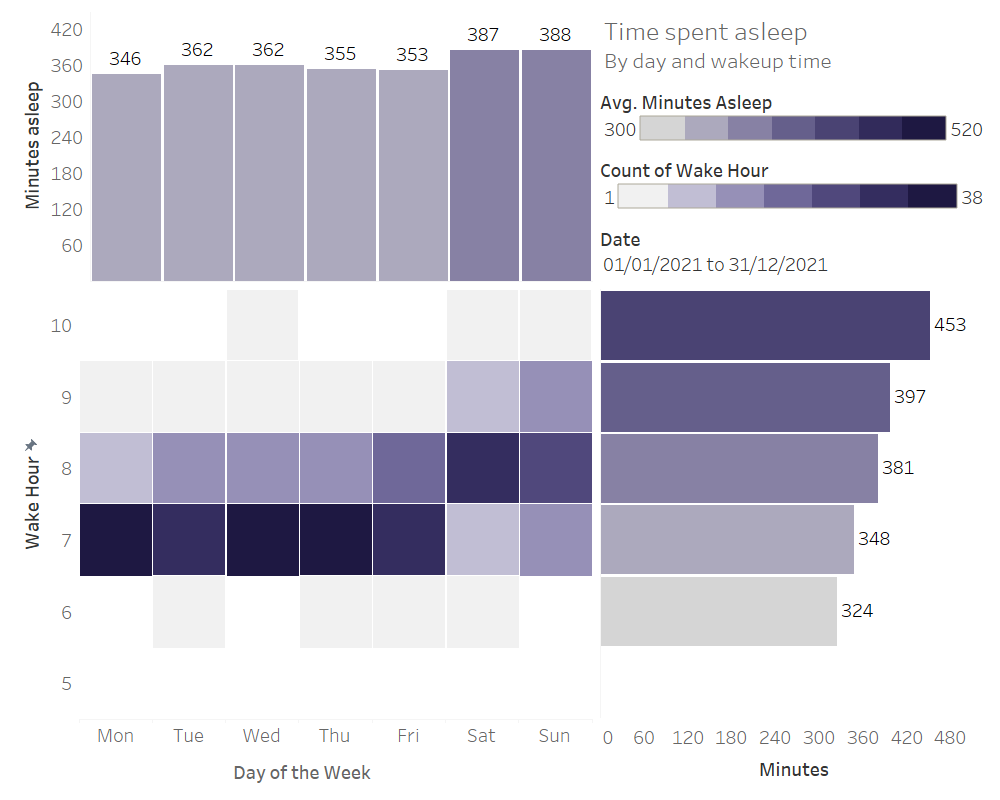

Layout of this report page (visuals, bound fields, positions):
{"tool":"tableau","page":{"name":"Waketime Dashboard","canvas":[1000,800],"ordinal":0},"visuals":[{"type":"worksheet","title":"Asleep by Day","mark":"Bar","rows":["minutesAsleep"],"cols":["dayOfWeek"],"box":[8,8,588,277]},{"type":"text","box":[596,8,396.1,73]},{"type":"legend","title":"Asleep by wake hour","param":"[federated.1r5qa1g0v1m78x16bkwcn1l16mqm].[avg:minutesAsleep:qk]","box":[596,81,396.1,68]},{"type":"legend","title":"Wake up time heatmap","param":"[federated.1r5qa1g0v1m78x16bkwcn1l16mqm].[cnt:wake_hour:qk]","box":[596,149,396.1,72]},{"type":"filter","title":"Wake up time heatmap","param":"[federated.1r5qa1g0v1m78x16bkwcn1l16mqm].[none:date:qk]","box":[596,221,396.1,64]},{"type":"worksheet","title":"Wake up time heatmap","mark":"Square","rows":["wake_hour"],"cols":["dayOfWeek"],"box":[8,285,588,467]},{"type":"worksheet","title":"Asleep by wake hour","mark":"Bar","rows":["wake_hour"],"cols":["minutesAsleep"],"box":[596,285,396.1,507]},{"type":"text","box":[8,752,588,40]}]}

Visuals, with their boxes in screenshot pixels (x1, y1, x2, y2), scaled from the page's 1000x800 canvas onto the 1000x800 screenshot:
"Asleep by Day" worksheet (Bar marks): <region>8, 8, 596, 285</region>
text: <region>596, 8, 992, 81</region>
"Asleep by wake hour" legend: <region>596, 81, 992, 149</region>
"Wake up time heatmap" legend: <region>596, 149, 992, 221</region>
"Wake up time heatmap" filter: <region>596, 221, 992, 285</region>
"Wake up time heatmap" worksheet (Square marks): <region>8, 285, 596, 752</region>
"Asleep by wake hour" worksheet (Bar marks): <region>596, 285, 992, 792</region>
text: <region>8, 752, 596, 792</region>
